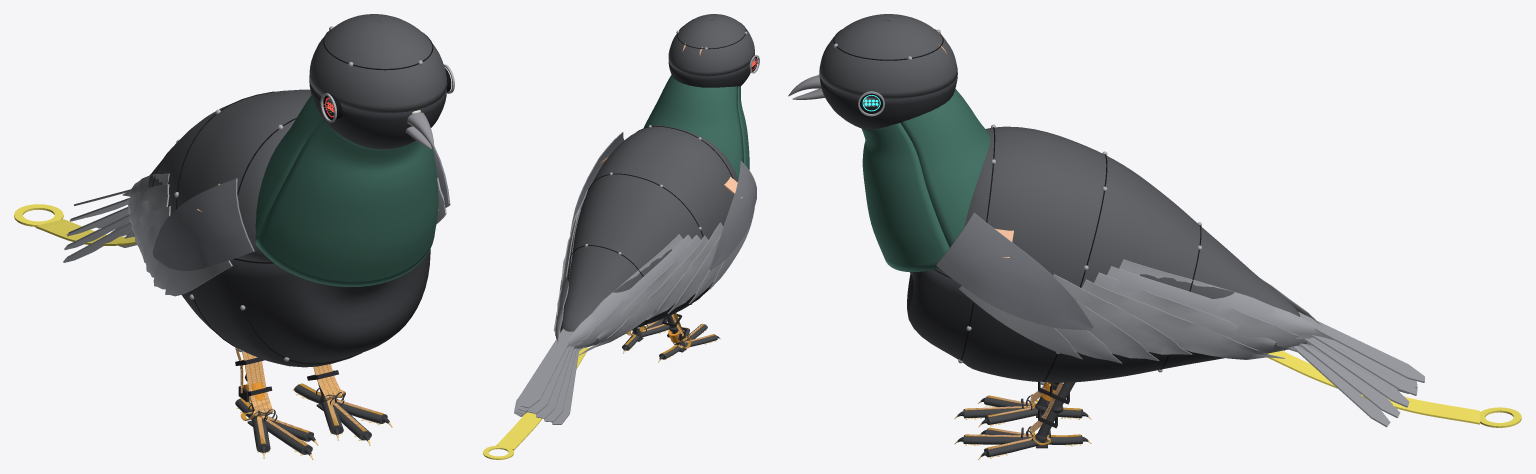
Rendered from pigeon_osfp_dr8.glb.
The picture shows the model from 3 angles, left to right: view 1: azimuth 30°, elevation 25°; view 2: azimuth 150°, elevation 25°; view 3: azimuth 270°, elevation 25°; orthographic projection. The views are drawn at different scales.
Visible parts, largest first — view 1: skin_front_neck, skin_belly_body, skin_back_body, skin_head_cranium, wing_right_covert_heat_spreader, wing_right_flight_feather_fins, skin_head_jaw, skin_back_neck, tail_fan_fins, foot_rx_toes_x4, foot_tx_toes_x4, skin_panel_seams (+6 smaller); view 2: skin_back_body, wing_right_flight_feather_fins, skin_back_neck, skin_head_cranium, tail_fan_fins, wing_right_covert_heat_spreader, skin_head_jaw, wing_left_flight_feather_fins, leash_pull_tab_strap, wing_left_covert_heat_spreader, skin_panel_seams, foot_tx_toes_x4 (+3 smaller); view 3: skin_back_body, wing_left_flight_feather_fins, skin_belly_body, skin_head_cranium, skin_front_neck, wing_left_covert_heat_spreader, skin_back_neck, tail_fan_fins, skin_head_jaw, leash_pull_tab_strap, foot_rx_toes_x4, foot_tx_toes_x4 (+1 smaller).
Part boxes in pixels (x1,y1,x2,y2): skin_front_neck: (255, 120, 438, 286); skin_belly_body: (181, 249, 430, 367); skin_back_body: (148, 89, 311, 262); skin_head_cranium: (309, 14, 447, 112); wing_right_covert_heat_spreader: (152, 178, 254, 270); wing_right_flight_feather_fins: (122, 173, 232, 296); skin_head_jaw: (309, 80, 446, 149); skin_back_neck: (255, 95, 323, 242); tail_fan_fins: (63, 189, 136, 262); foot_rx_toes_x4: (294, 384, 387, 440); foot_tx_toes_x4: (235, 399, 313, 454); skin_panel_seams: (152, 29, 433, 364); skin_back_body: (560, 125, 738, 331); wing_right_flight_feather_fins: (563, 208, 754, 355); skin_back_neck: (644, 75, 743, 178); skin_head_cranium: (668, 14, 754, 76); tail_fan_fins: (514, 328, 579, 424); wing_right_covert_heat_spreader: (709, 161, 756, 270); skin_head_jaw: (668, 59, 753, 87); wing_left_flight_feather_fins: (553, 190, 587, 343); leash_pull_tab_strap: (496, 347, 588, 450); wing_left_covert_heat_spreader: (570, 132, 624, 234); skin_panel_seams: (560, 23, 746, 332); foot_tx_toes_x4: (659, 324, 717, 359); skin_back_body: (935, 126, 1300, 316); wing_left_flight_feather_fins: (959, 259, 1333, 363); skin_belly_body: (907, 269, 1224, 382); skin_head_cranium: (819, 14, 957, 98); skin_front_neck: (861, 123, 949, 272); wing_left_covert_heat_spreader: (936, 212, 1093, 330); skin_back_neck: (900, 89, 989, 247); tail_fan_fins: (1292, 312, 1424, 427); skin_head_jaw: (819, 74, 957, 129); leash_pull_tab_strap: (1267, 351, 1479, 424); foot_rx_toes_x4: (963, 428, 1082, 457); foot_tx_toes_x4: (963, 396, 1082, 424).
Size of the model in its own units: 0.0507 by 0.0938 by 0.1513.
